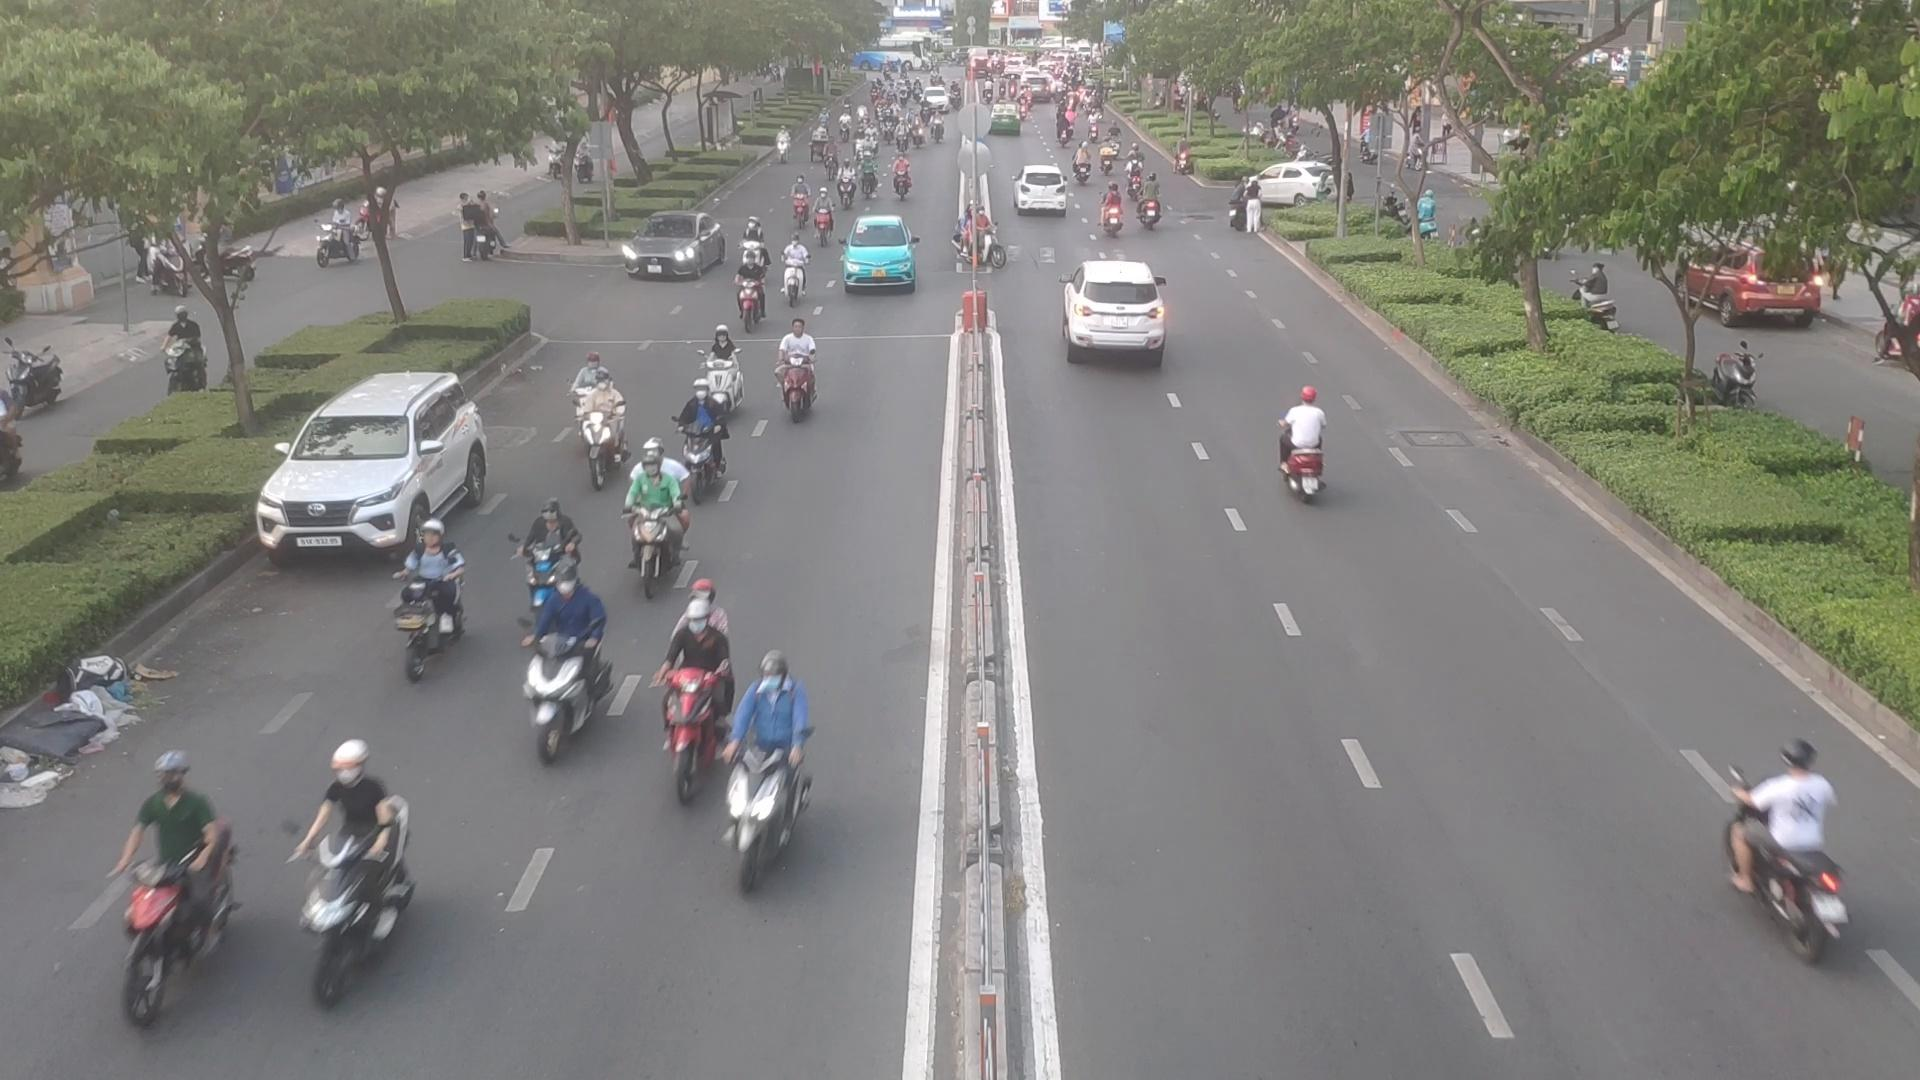car: (258, 373, 495, 567), (1673, 239, 1832, 328), (1065, 260, 1175, 357), (621, 214, 731, 284), (840, 218, 913, 295), (1249, 160, 1337, 212), (1015, 164, 1071, 211)
motorbike: (98, 756, 251, 1017), (286, 757, 423, 990), (1721, 733, 1840, 971), (647, 580, 735, 800), (731, 661, 808, 876), (518, 570, 607, 756), (396, 512, 468, 682), (620, 440, 688, 578), (1269, 382, 1327, 517), (512, 510, 576, 626), (578, 361, 634, 485), (671, 385, 723, 496), (773, 315, 825, 413), (699, 315, 745, 417), (554, 339, 613, 417), (952, 207, 1004, 266), (735, 220, 764, 290), (737, 256, 762, 330), (779, 235, 804, 306), (785, 171, 814, 229), (1095, 179, 1124, 236), (1139, 175, 1164, 229), (812, 185, 833, 247), (891, 153, 918, 196), (833, 154, 851, 208), (1069, 149, 1095, 183), (1122, 164, 1143, 198), (865, 154, 881, 198), (822, 137, 837, 173)
